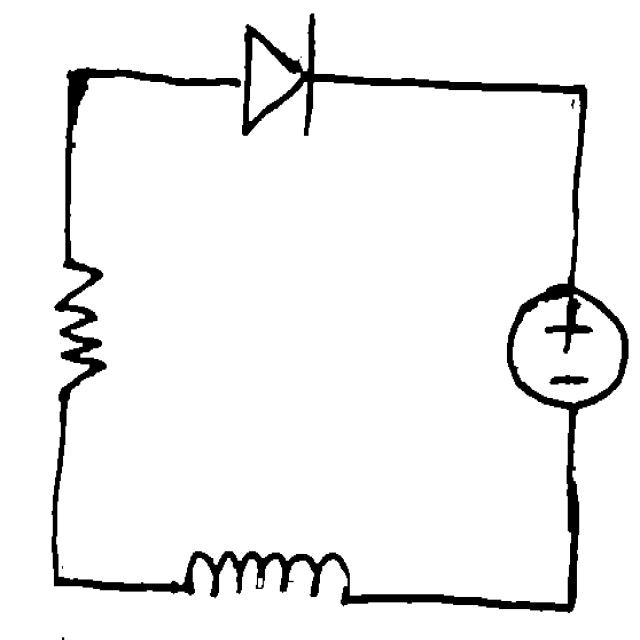dc: (497, 278, 633, 415)
diode: (224, 9, 328, 145)
inductor: (165, 534, 368, 617)
resistor: (34, 238, 119, 416)
